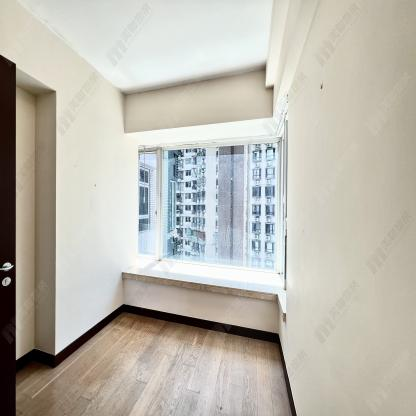Windowsill: (120, 93, 290, 325)
